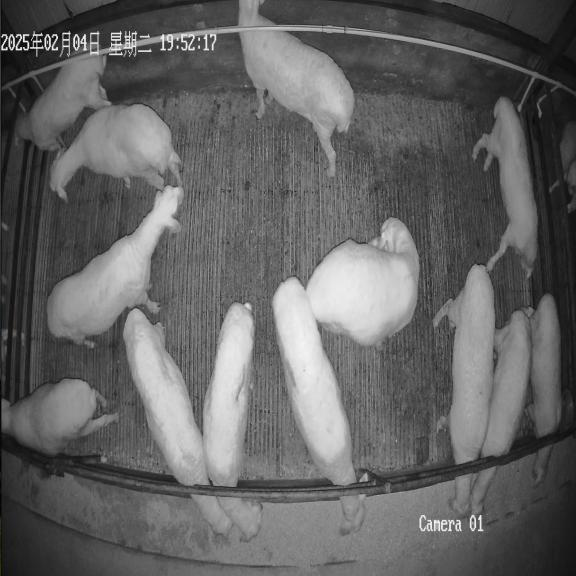drinking: (14, 56, 111, 153)
eating: (123, 308, 231, 535), (272, 277, 365, 534), (433, 264, 495, 516), (203, 302, 262, 541), (470, 308, 531, 513), (525, 293, 562, 485)
stand: (46, 185, 183, 348), (238, 0, 354, 176), (305, 218, 419, 350), (50, 104, 181, 200), (473, 97, 538, 278), (2, 378, 118, 455)
